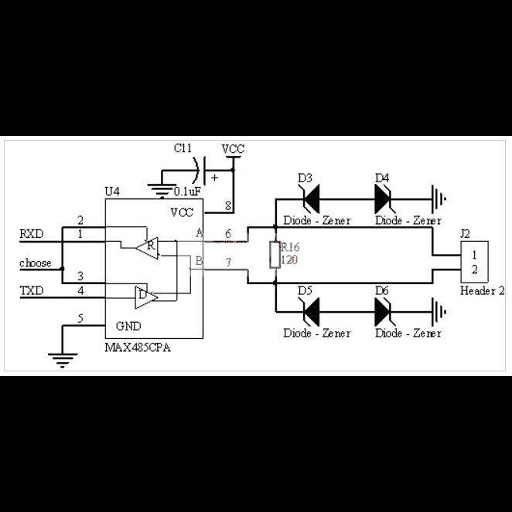amplifier: (133, 236, 160, 262), (132, 285, 159, 311)
firstpolarcapacitor: (187, 155, 223, 187)
firstresistance: (265, 239, 282, 271)
gnd: (45, 352, 82, 369), (430, 181, 449, 214), (431, 293, 448, 329), (143, 183, 179, 200)
